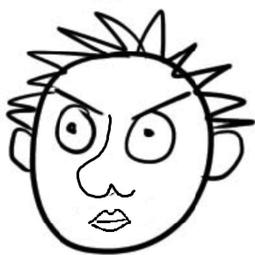cupid_mouth: (84, 206, 134, 234)
ear: (203, 129, 250, 181), (9, 126, 41, 174)
eye: (125, 108, 178, 165), (51, 103, 96, 156)
frowning_eyebrow: (132, 92, 191, 120), (52, 89, 102, 115)
large_nose: (75, 109, 136, 199)
